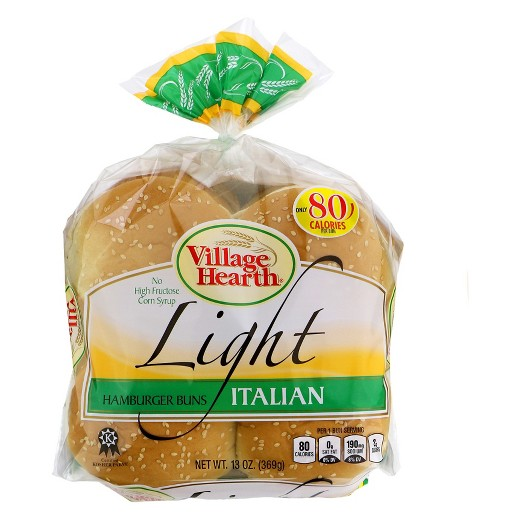hamburger_buns: (46, 144, 418, 498)
